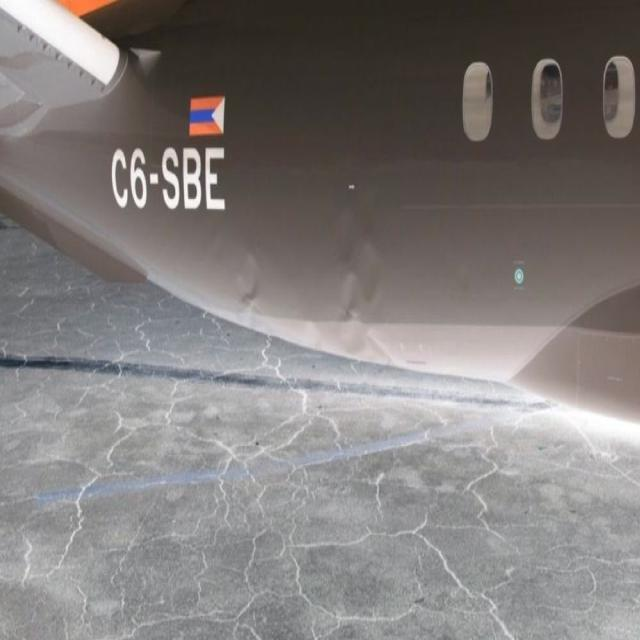dent: (231, 192, 403, 380)
